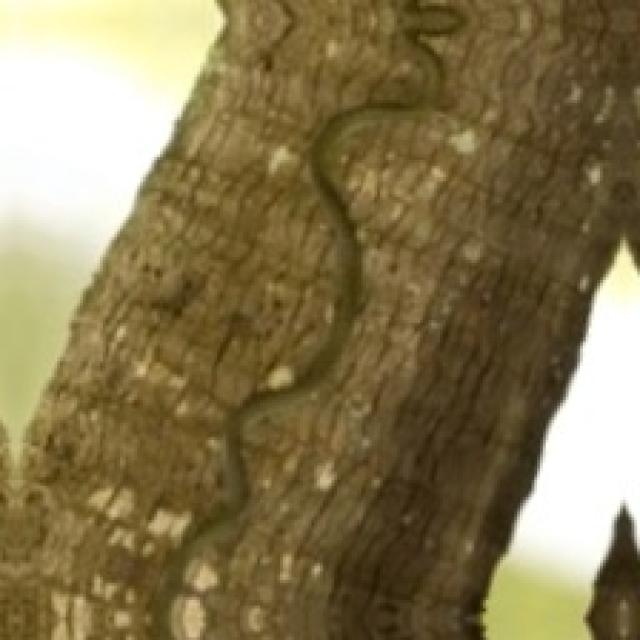paradise tree snake: (0, 0, 637, 637), (77, 0, 637, 637)
